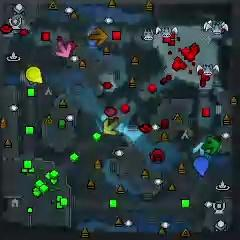p1: (195, 156, 209, 177)
p4: (27, 65, 44, 85)
x1: (56, 42, 72, 58)
x2: (102, 120, 119, 134)
x3: (192, 141, 212, 156)
x4: (202, 136, 220, 153)
x5: (89, 27, 109, 44)
